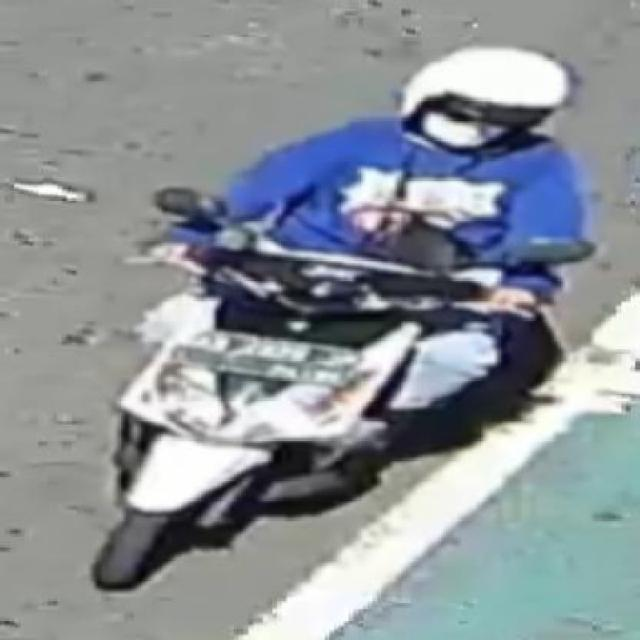helmet: (342, 34, 580, 186)
motorcycle: (79, 12, 633, 628)
